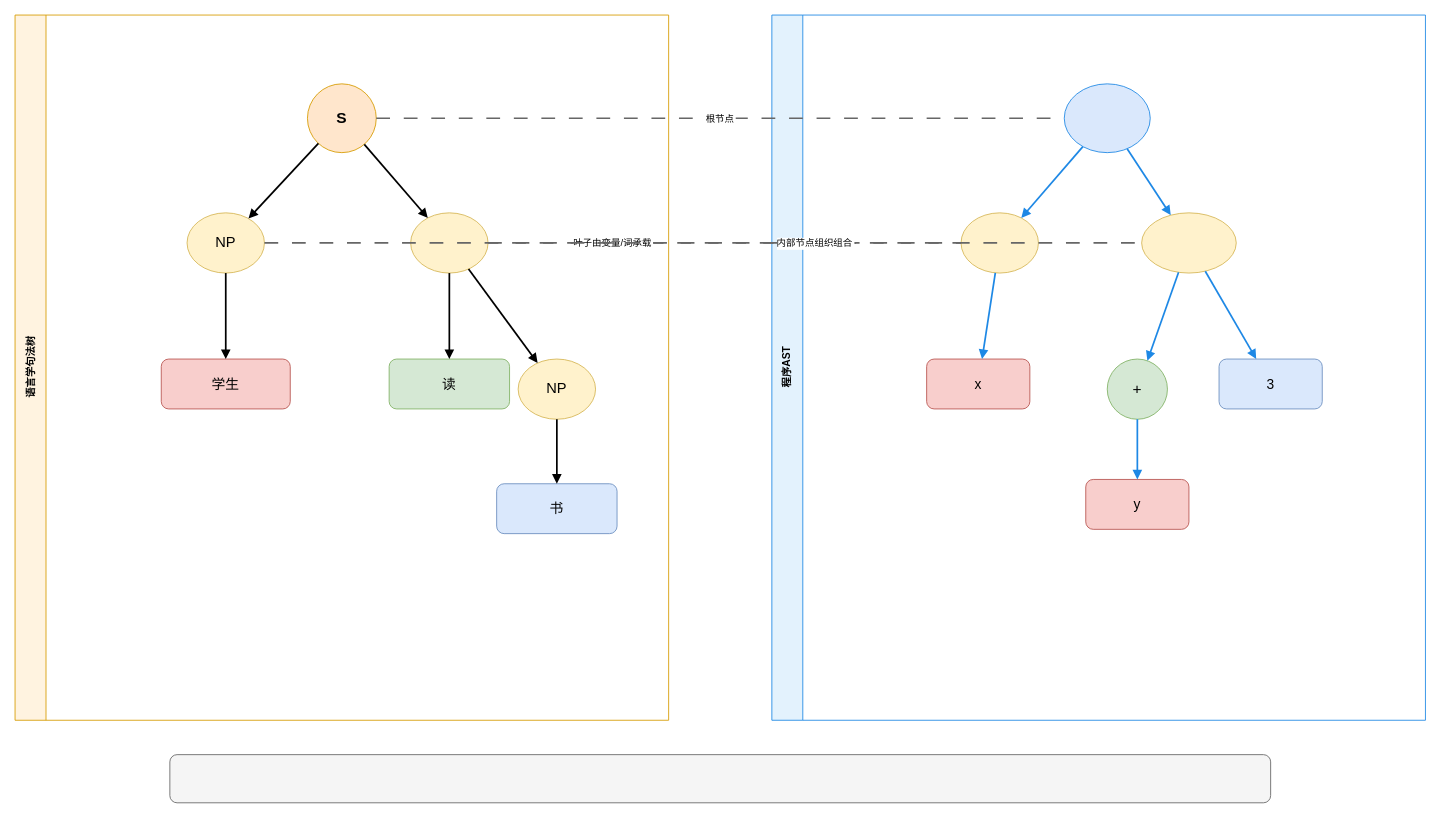
Some shapes in this 1441 by 818 pixel diagram are drawn without their labels. Here are the shapes that lost their labels. From the top down, the centre of each, then its label:
At point (1106, 118): "Expr".
At point (449, 242): "VP".
At point (999, 242): "Var".
At point (1188, 242): "BinOp".
At point (720, 778): "两侧都遵循“根节点→中间组合节点→叶节点”的层级组织；区别在于左侧是语法范畴，右侧是运算/变量节点。".
